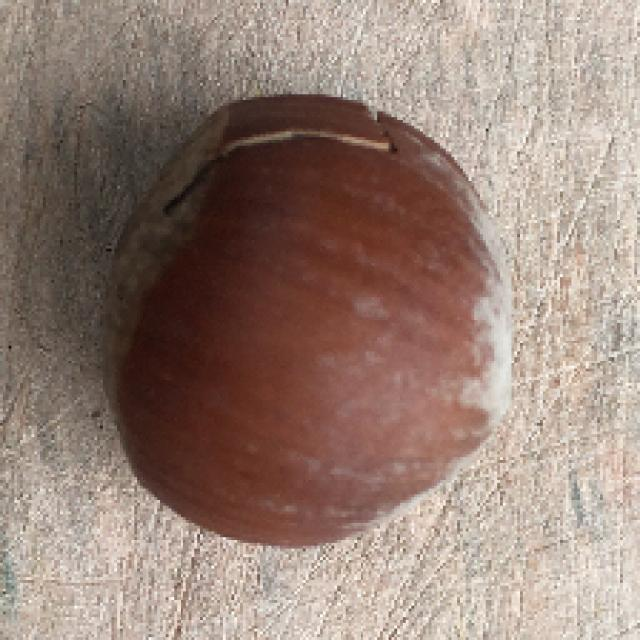DamagedHazelnut: (105, 97, 519, 543)
